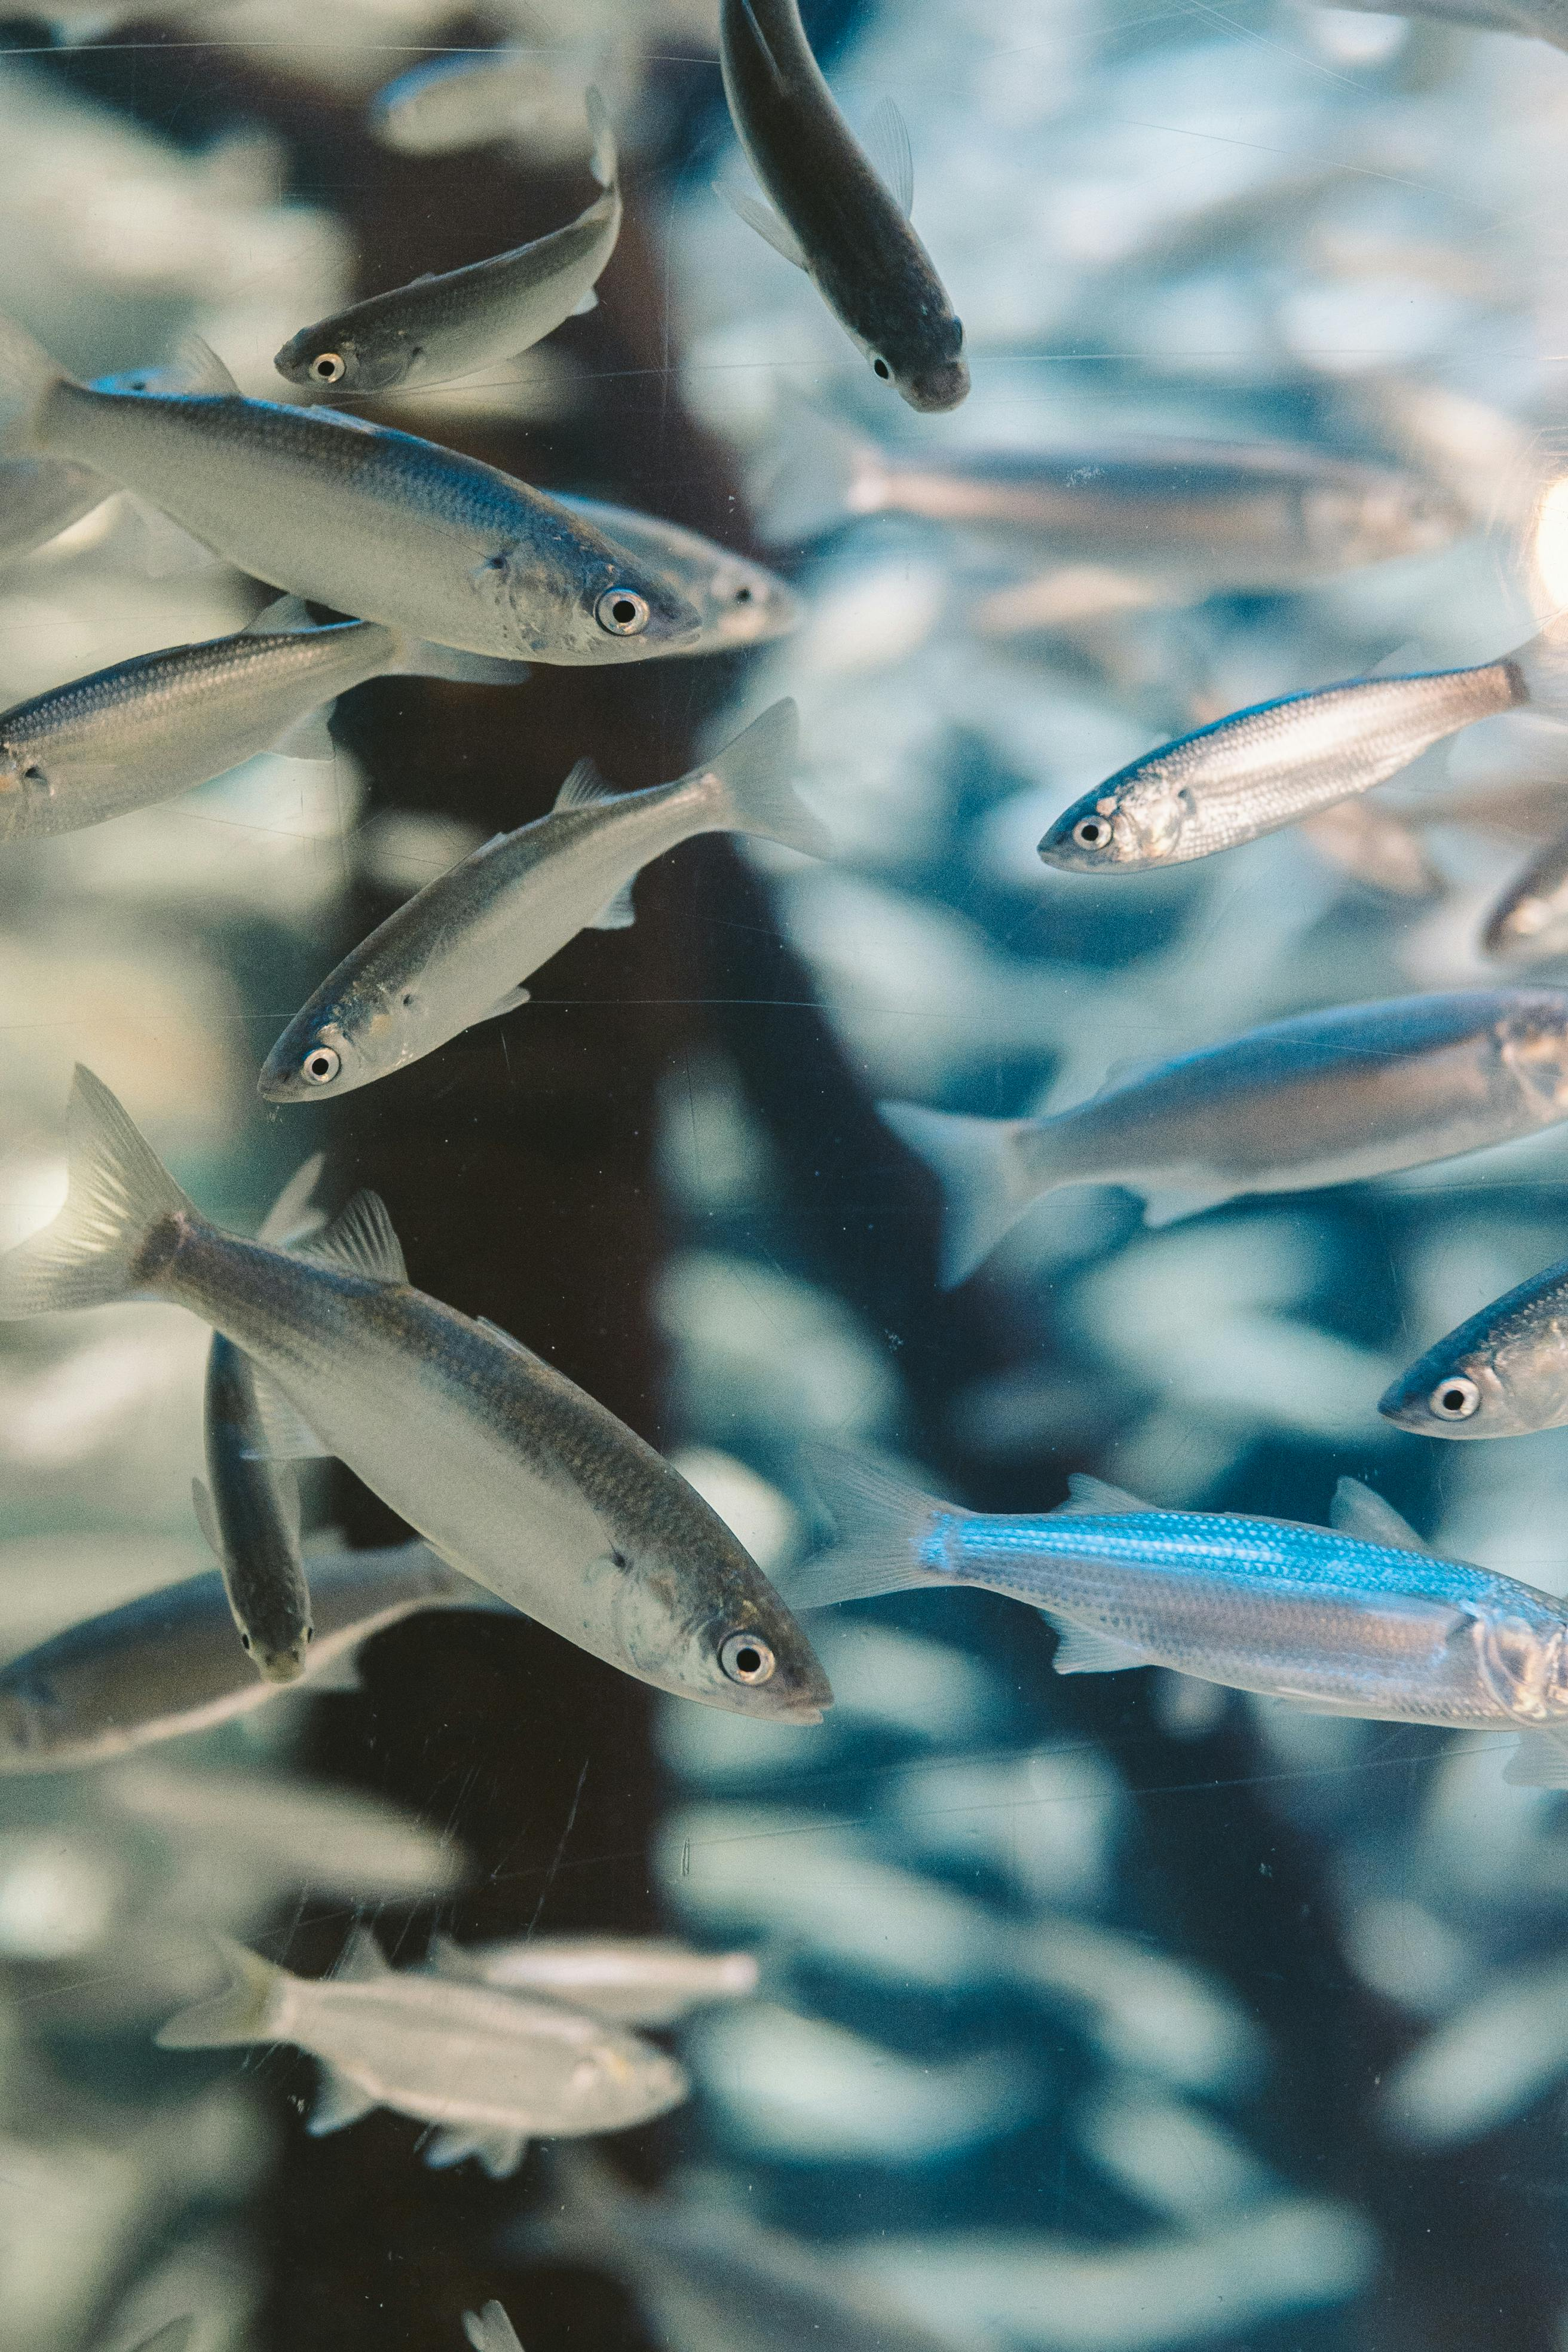fishSmall: (0, 1066, 831, 1741), (0, 303, 705, 668), (245, 689, 849, 1109), (791, 1435, 1568, 1745), (871, 975, 1561, 1293), (159, 1918, 686, 2175), (1038, 628, 1561, 878), (271, 82, 635, 404), (0, 593, 390, 852), (187, 1153, 329, 1683), (1377, 1276, 1568, 1445)
